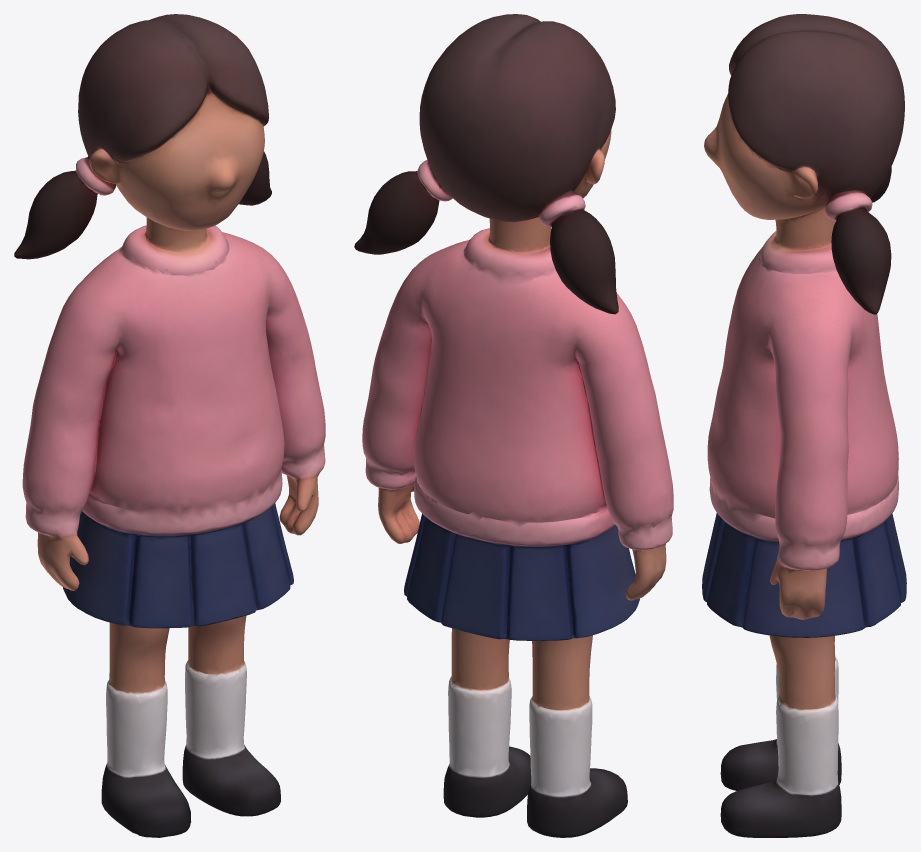
File: girl.glb
3 views of the same model, side by side, from view 1: azimuth 30°, elevation 25°; view 2: azimuth 150°, elevation 25°; view 3: azimuth 270°, elevation 25° (orthographic). The views are drawn at different scales.
Visible parts, largest first — view 1: Mesh; view 2: Mesh; view 3: Mesh.
Part boxes in pixels (bbox=[...]): Mesh: bbox=[14, 14, 325, 837]; Mesh: bbox=[354, 14, 673, 837]; Mesh: bbox=[702, 14, 906, 837].
Bounding box in the file's own units: 0.7576 × 1.89 × 0.4517.
1 material, 1 textured.
